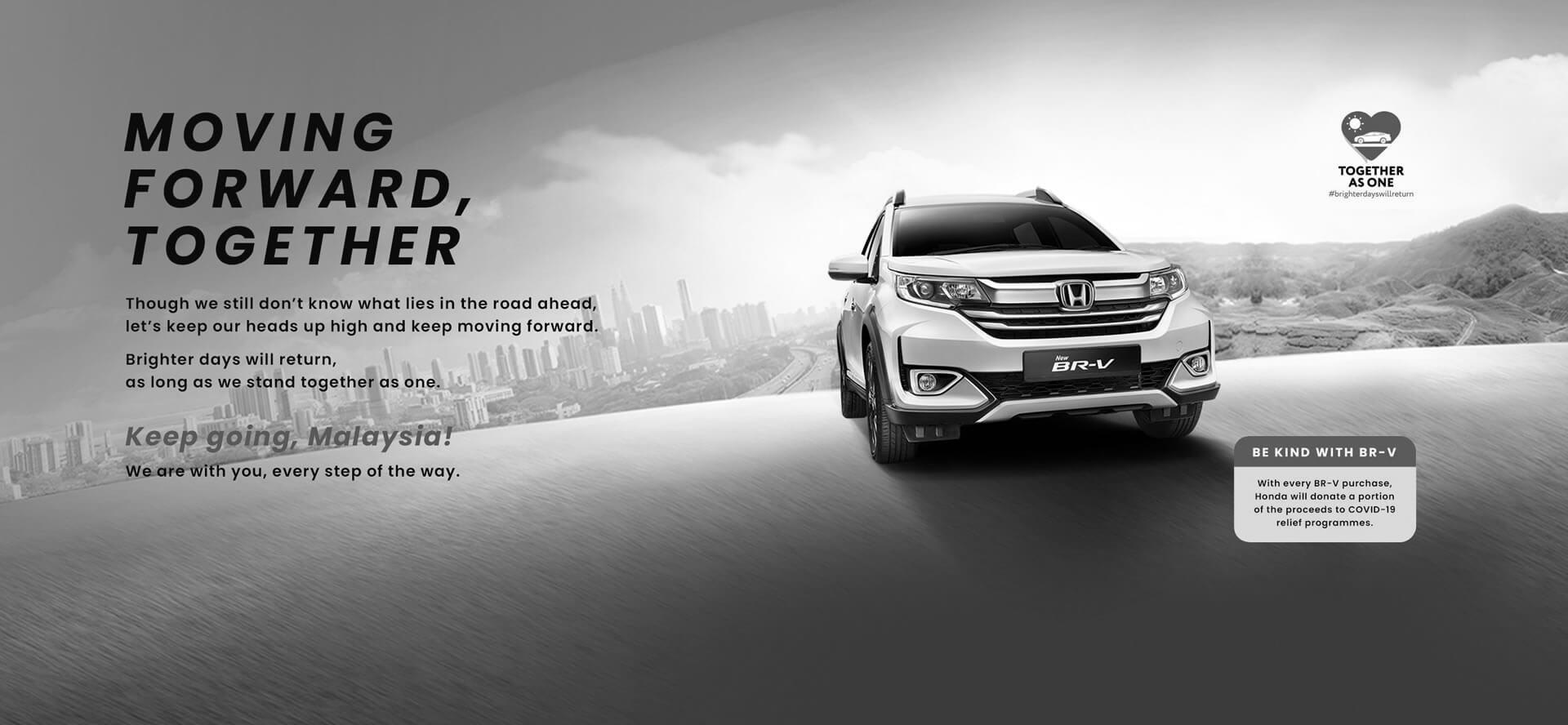Car hood: (879, 249, 1176, 277)
Front bumper: (870, 294, 1223, 428), (825, 252, 878, 286)
Headlight - -L-: (1152, 260, 1191, 306)
Headlight - -R-: (889, 267, 993, 307)
